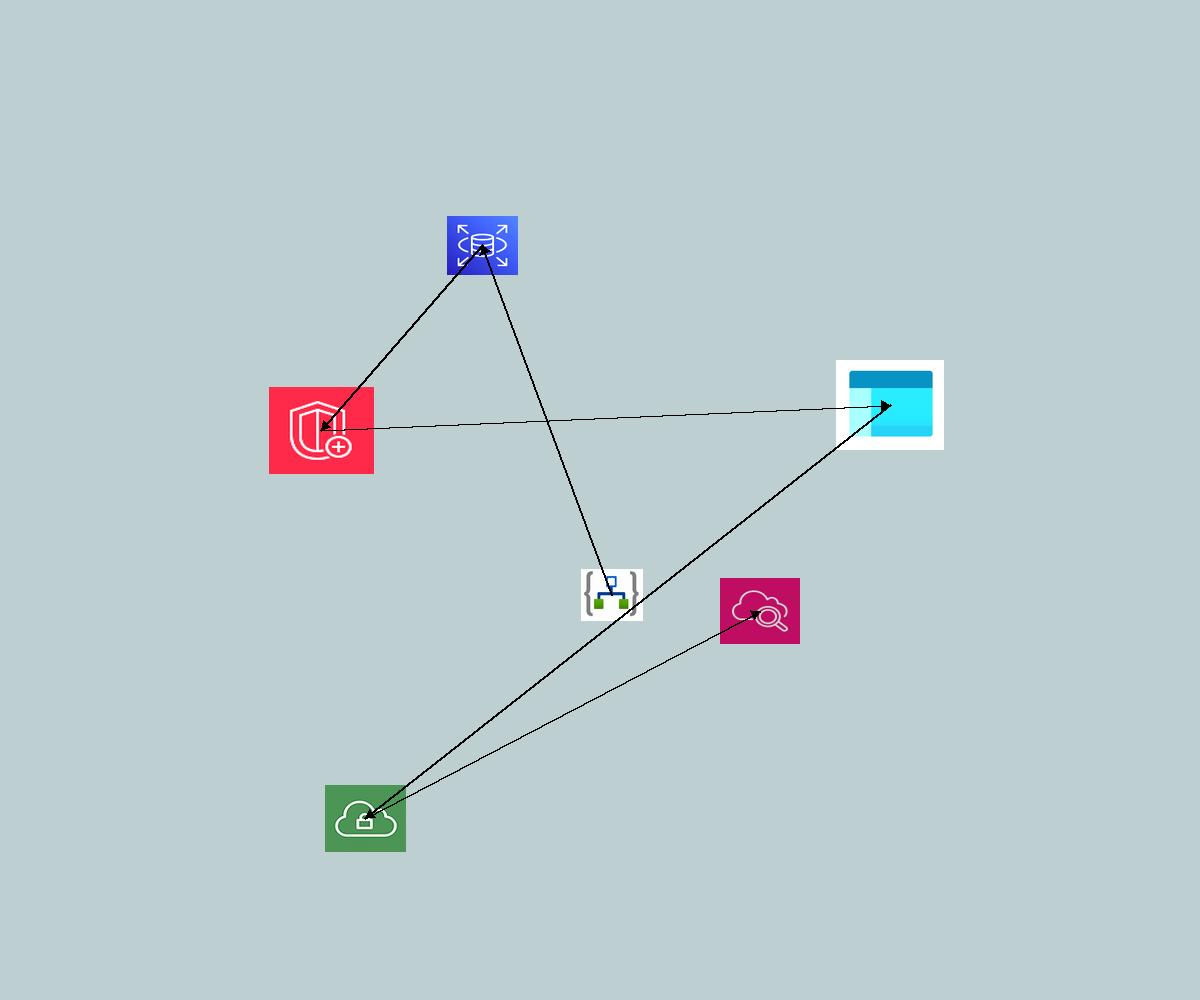AWS-CloudWatch: (720, 578, 800, 644)
AWS-Private_vpc: (325, 785, 406, 852)
AWS-RDS: (447, 216, 518, 275)
AWS-Shield: (269, 387, 374, 474)
Azure_integration-204-Logic-Apps: (581, 569, 643, 621)
Azure_management-portal: (836, 360, 944, 450)
